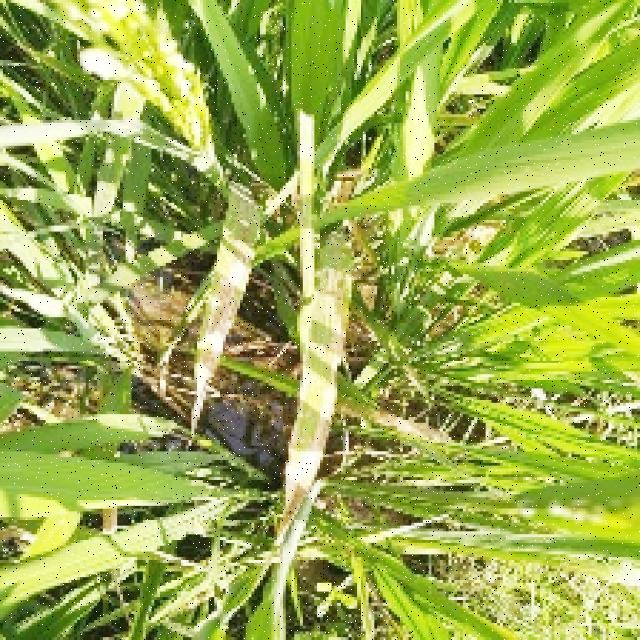health: (191, 1, 431, 143)
